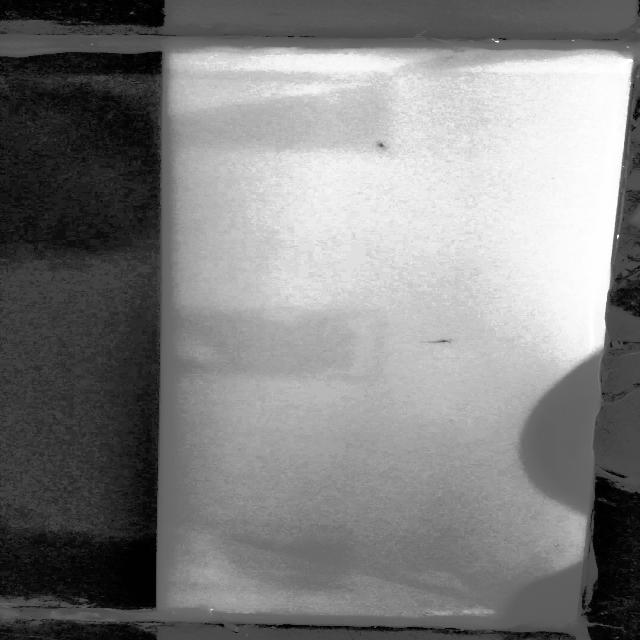shrimp: (416, 332, 465, 350), (368, 138, 389, 151)
